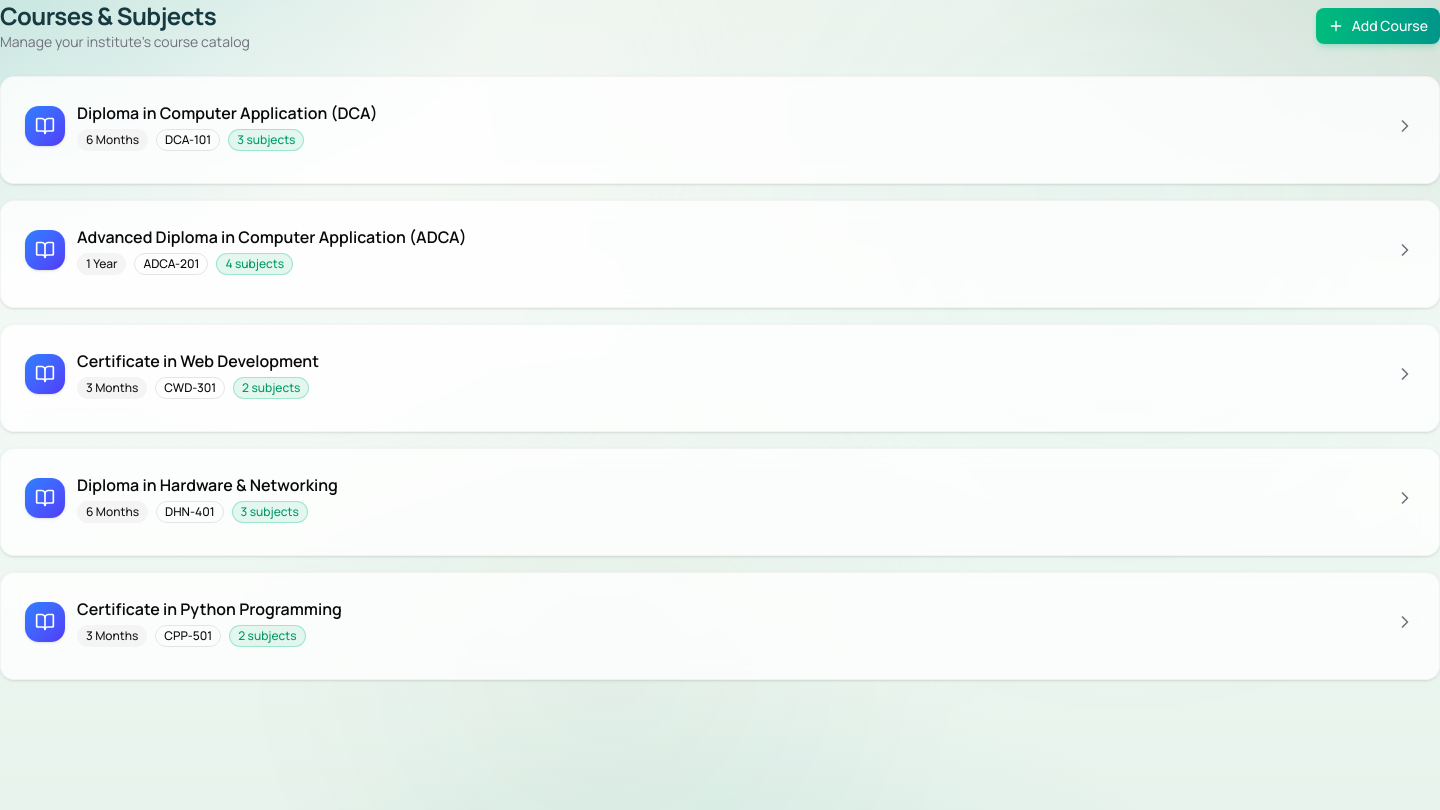
Scenario: AdminCourses Integration Tests › should successfully add a new course (Positive CRUD Create)
Expected: the text "Diploma in Computer Application (DCA)" is shown, [77,101,378,125]
Click the button "Add Course": (1378, 26) [1316,8,1439,44]
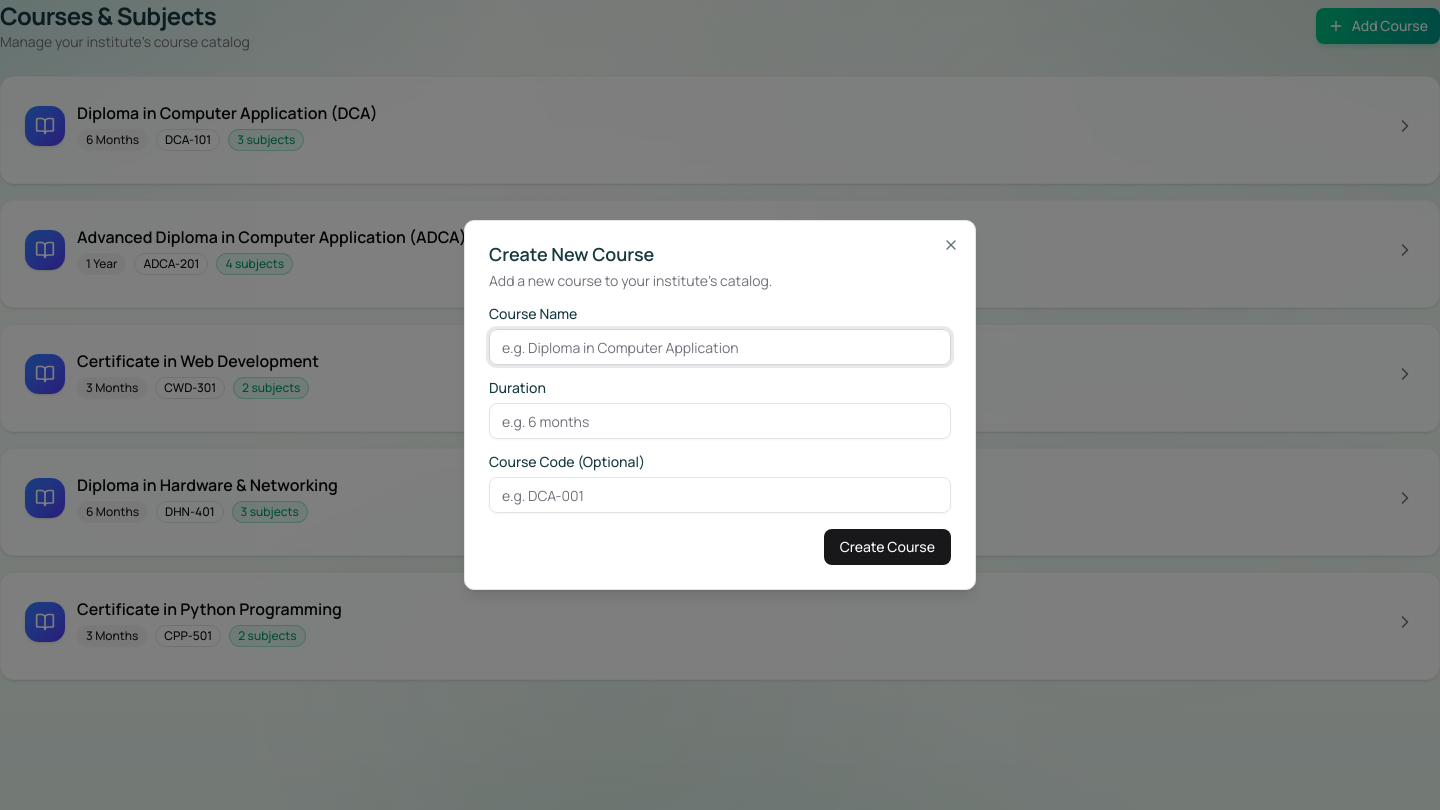
In the field with placeholder "e.g. Diploma in Computer Application": (720, 347) [489,329,951,365], type "Full Stack Web Engineering"
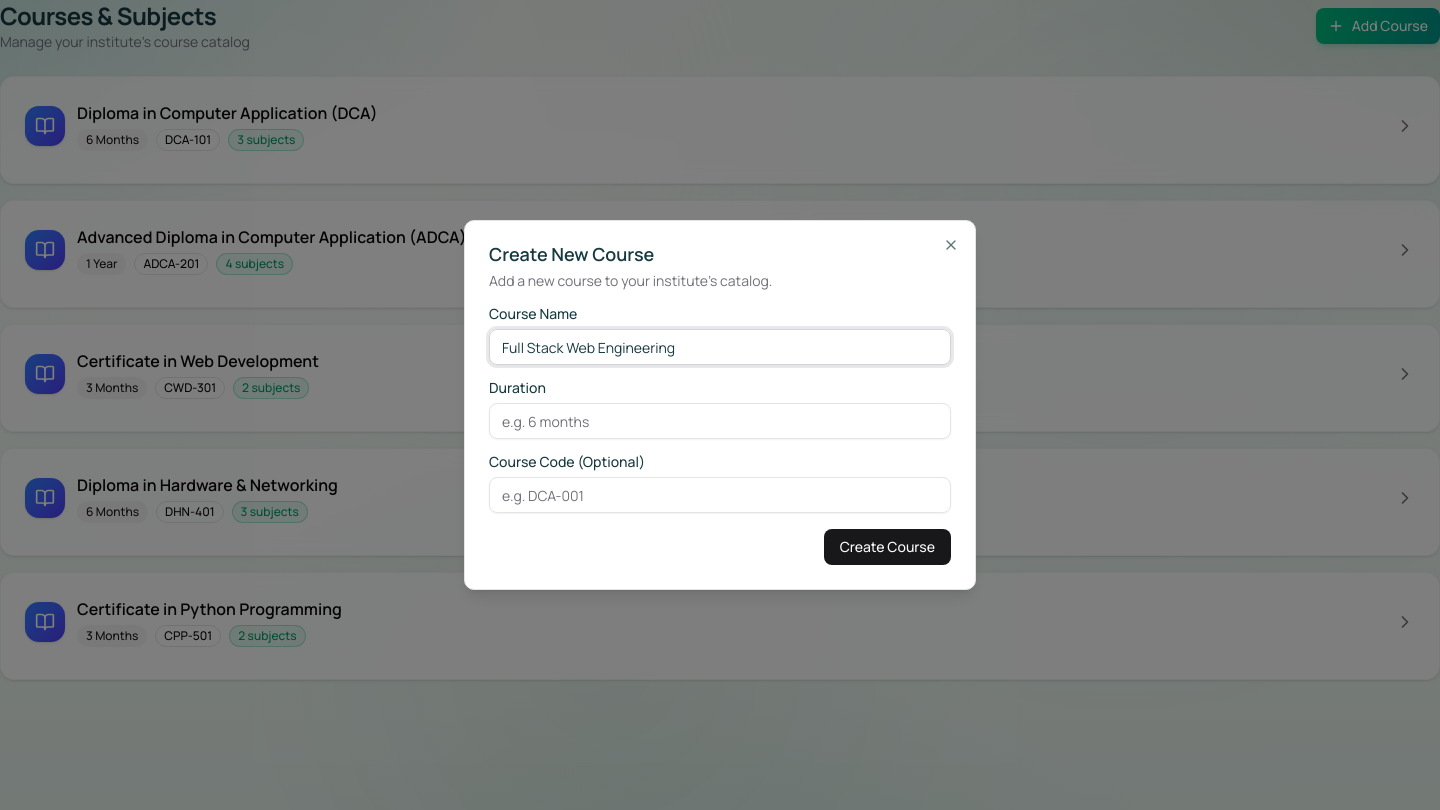
In the field with placeholder "e.g. 6 months": (720, 421) [489,403,951,439], type "6 months"
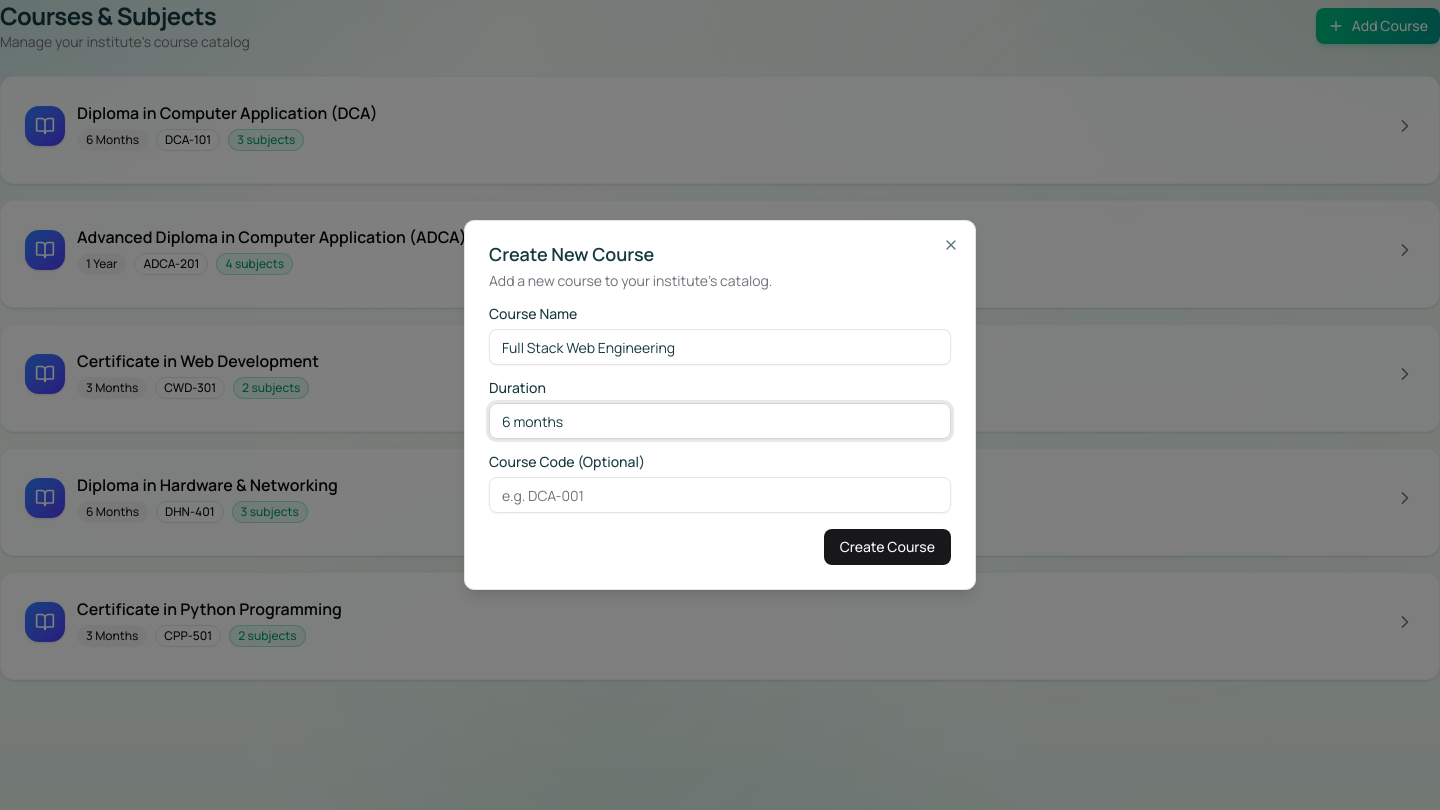
In the field with placeholder "e.g. DCA-001": (720, 495) [489,477,951,513], type "FSWE-101"
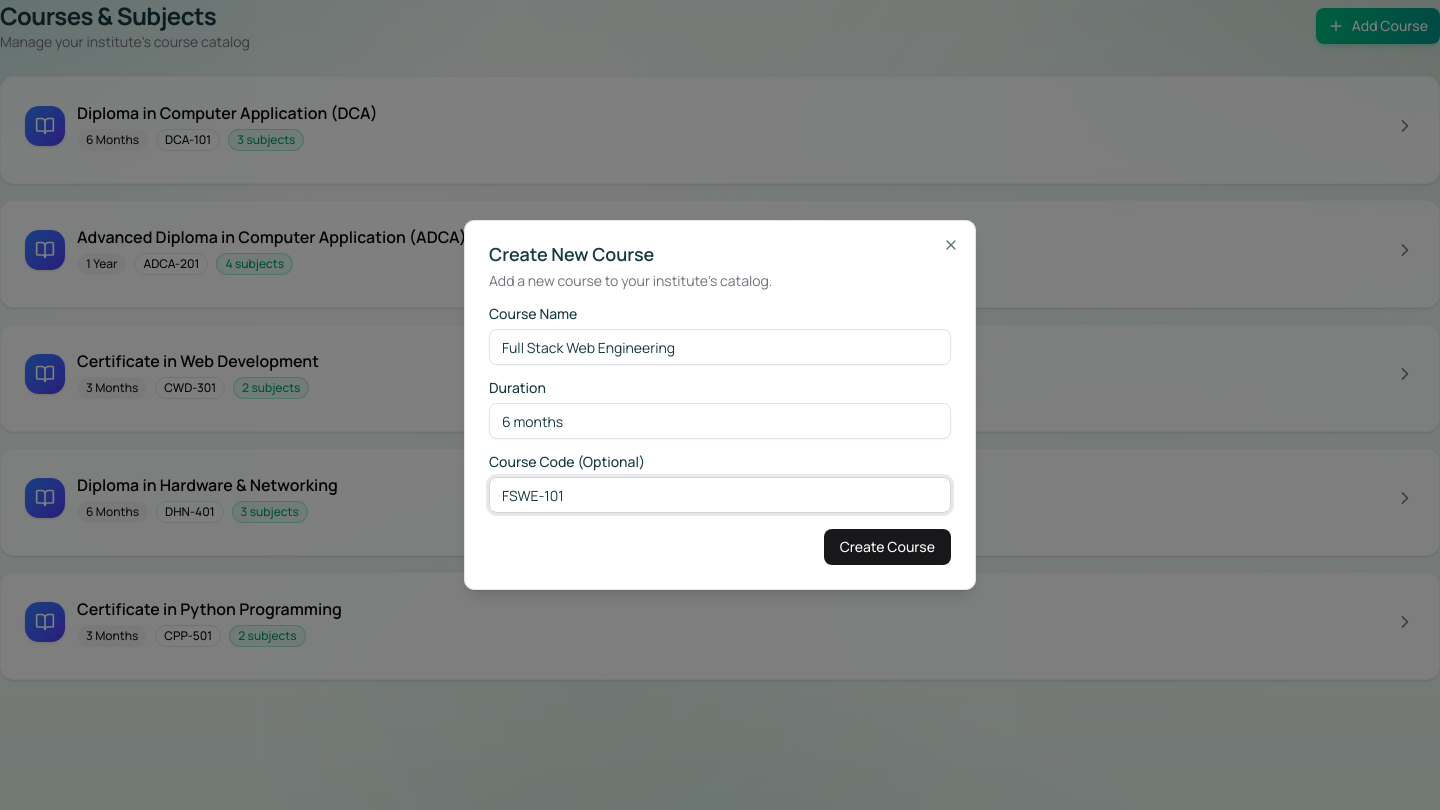
Click the button "Create Course": (887, 547) [824,529,951,565]
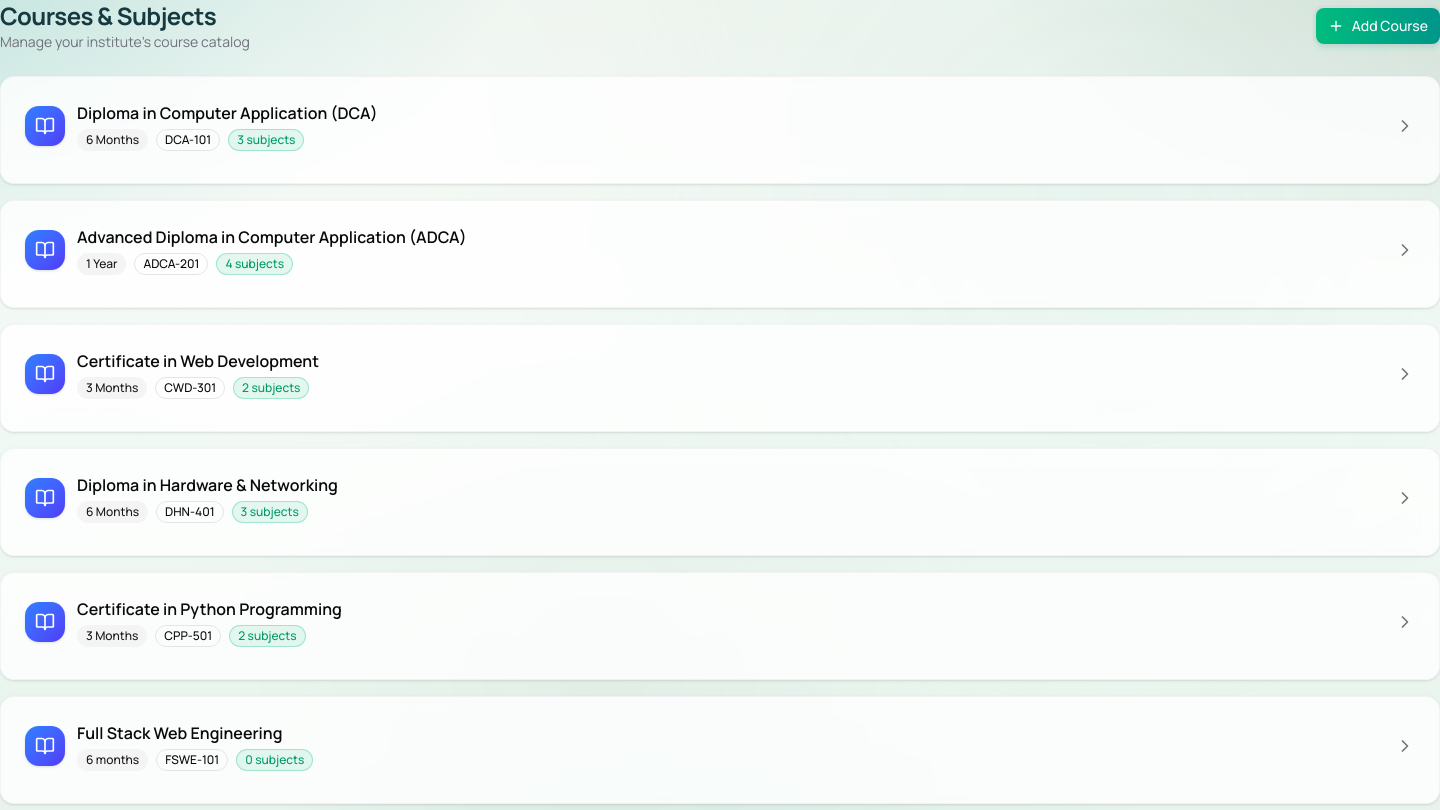
Expected: the text "Full Stack Web Engineering" is shown, [77,721,313,745]
